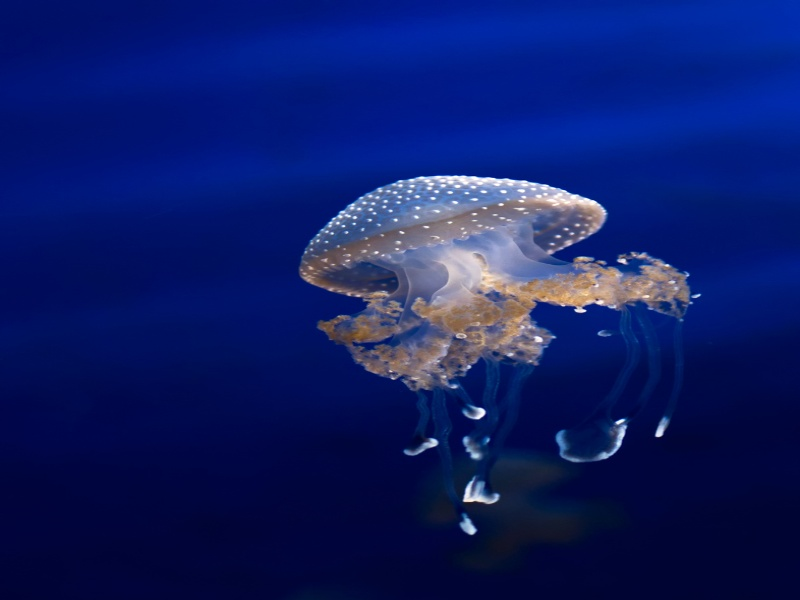Jellyfish: (298, 176, 699, 536)
